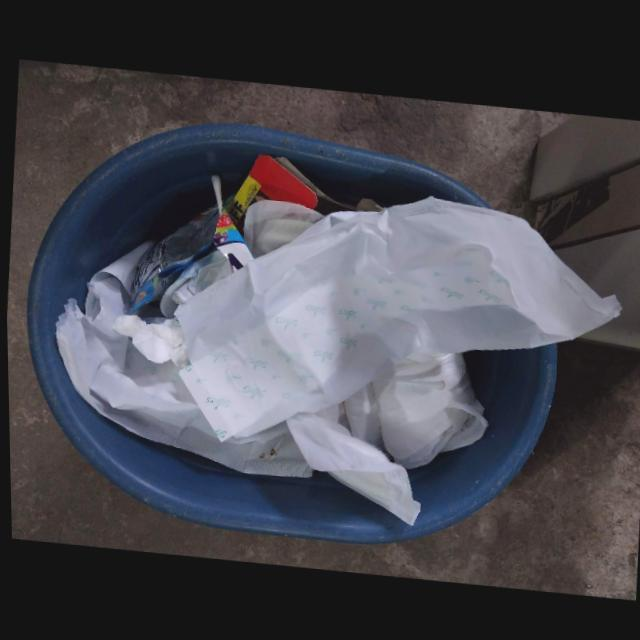paper: (174, 195, 621, 439), (53, 279, 311, 476), (336, 345, 486, 467), (283, 410, 419, 523), (225, 153, 374, 236), (111, 314, 188, 367)
wrapper: (127, 174, 251, 314)
